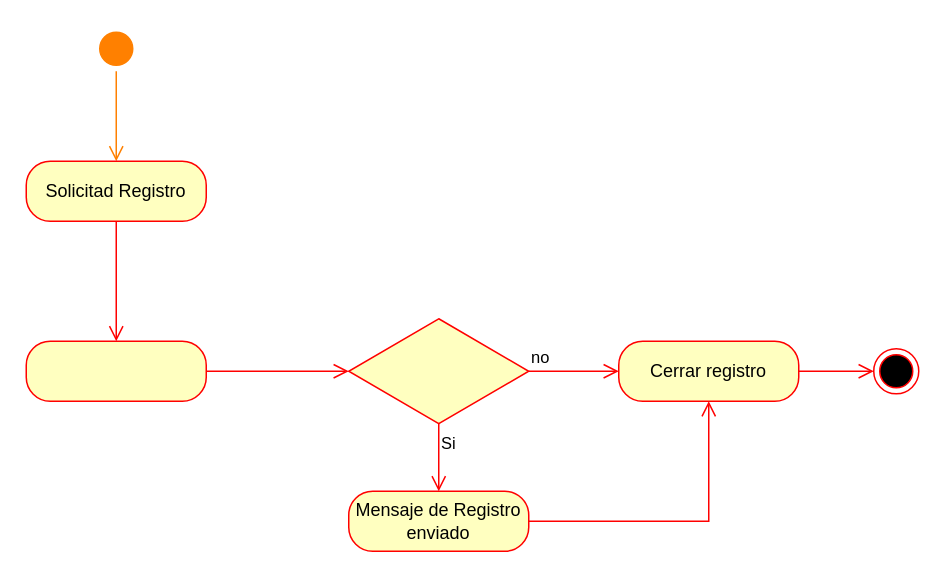
This 945x578 diagram has some shape labels left out. The shapes that lost their labels are listed below. From the top down, each one's centre as x and y in pixels, then its label:
At point 115,370: "Rellenar Campo Solicitado".
At point 438,370: "Enivar Registro".
